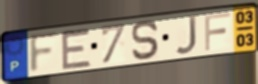7: (100, 22, 126, 66)
E: (59, 27, 93, 71)
F: (28, 29, 62, 76), (203, 11, 232, 53)
J: (174, 13, 199, 56)
S: (130, 19, 161, 62)
